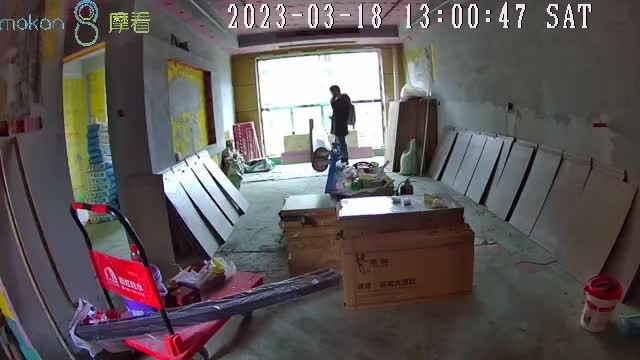people: (329, 84, 349, 167)
window: (260, 55, 383, 155)
